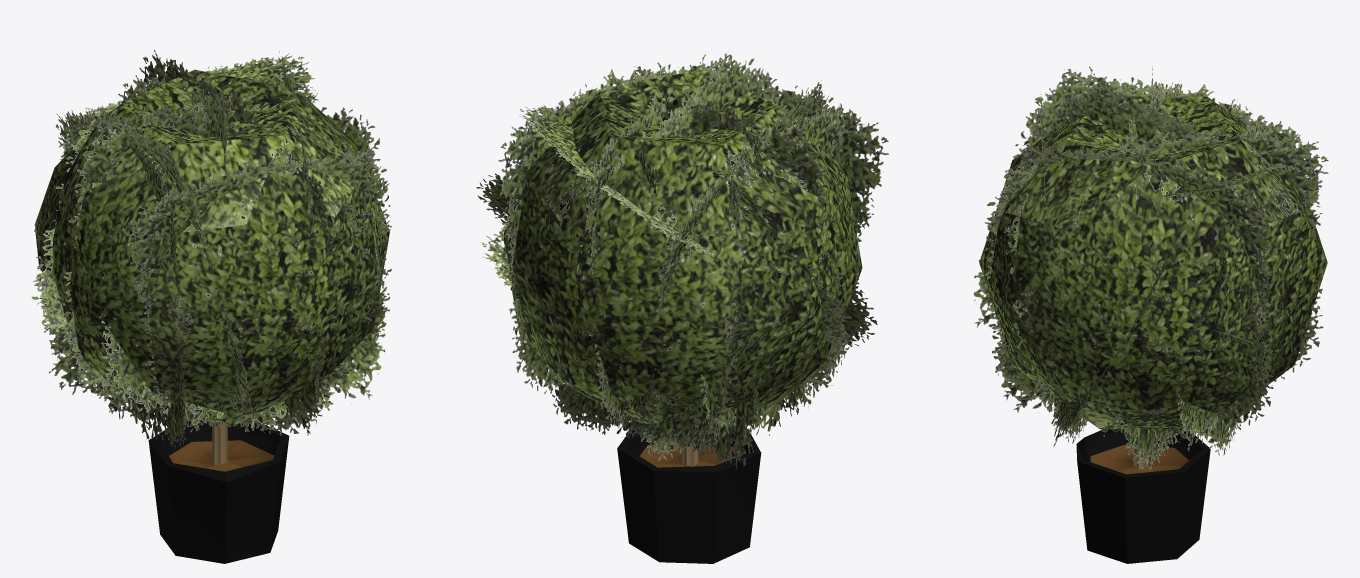
File: Plant_Sphere.fbx
3 renders of one model, left to right at view 1: azimuth 30°, elevation 25°; view 2: azimuth 150°, elevation 25°; view 3: azimuth 270°, elevation 25°, orthographic. The views are drawn at different scales.
Parts seen in each view (by area): view 1: Plant_Sphere; view 2: Plant_Sphere; view 3: Plant_Sphere.
Part boxes in pixels (left/top/right/bottom): Plant_Sphere: left=31, top=50, right=391, bottom=563; Plant_Sphere: left=476, top=50, right=888, bottom=563; Plant_Sphere: left=973, top=66, right=1328, bottom=563.
Bounding box in the file's own units: 56.23 × 66.79 × 50.65.
Materials: 4 (1 with a texture image).
